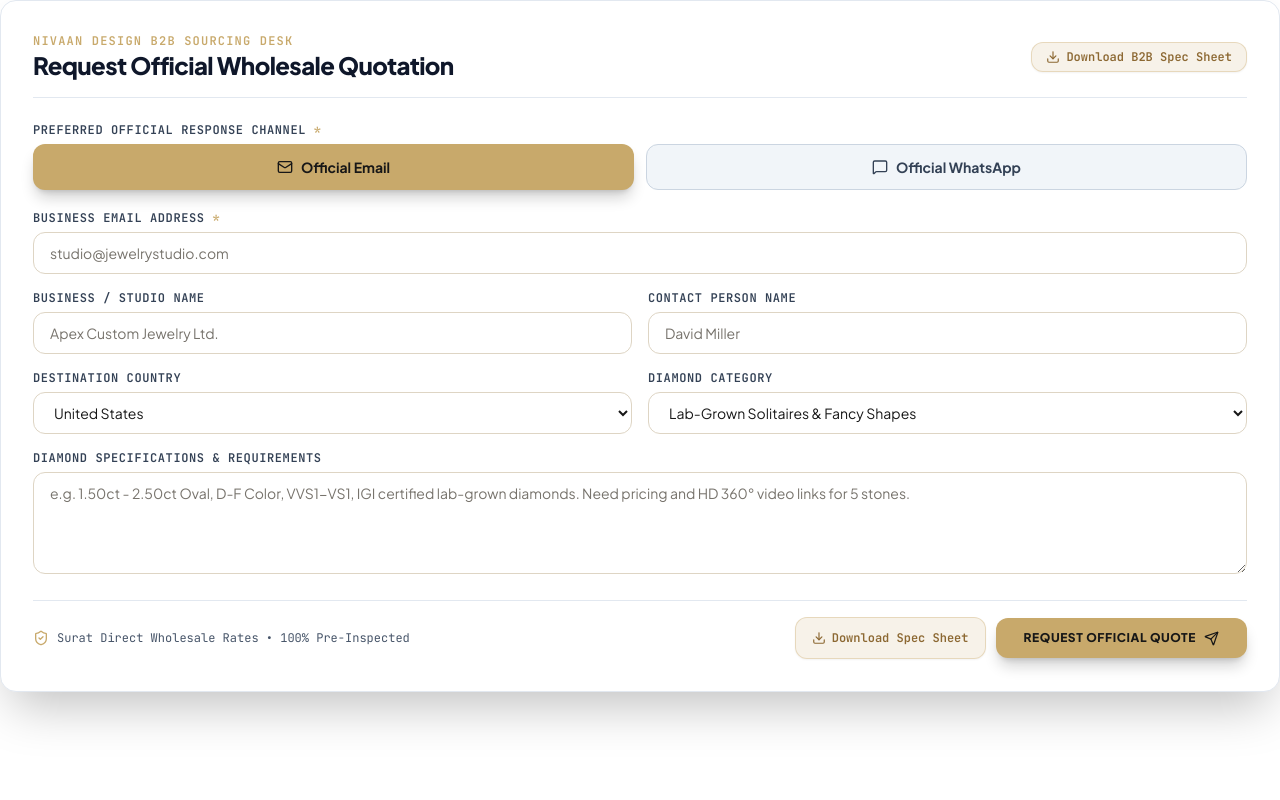
Scenario: B2B Quote Form Component › should validate invalid WhatsApp number when WhatsApp channel is selected
Click the button "Official WhatsApp" at (946, 167), box [646,144,1247,190]
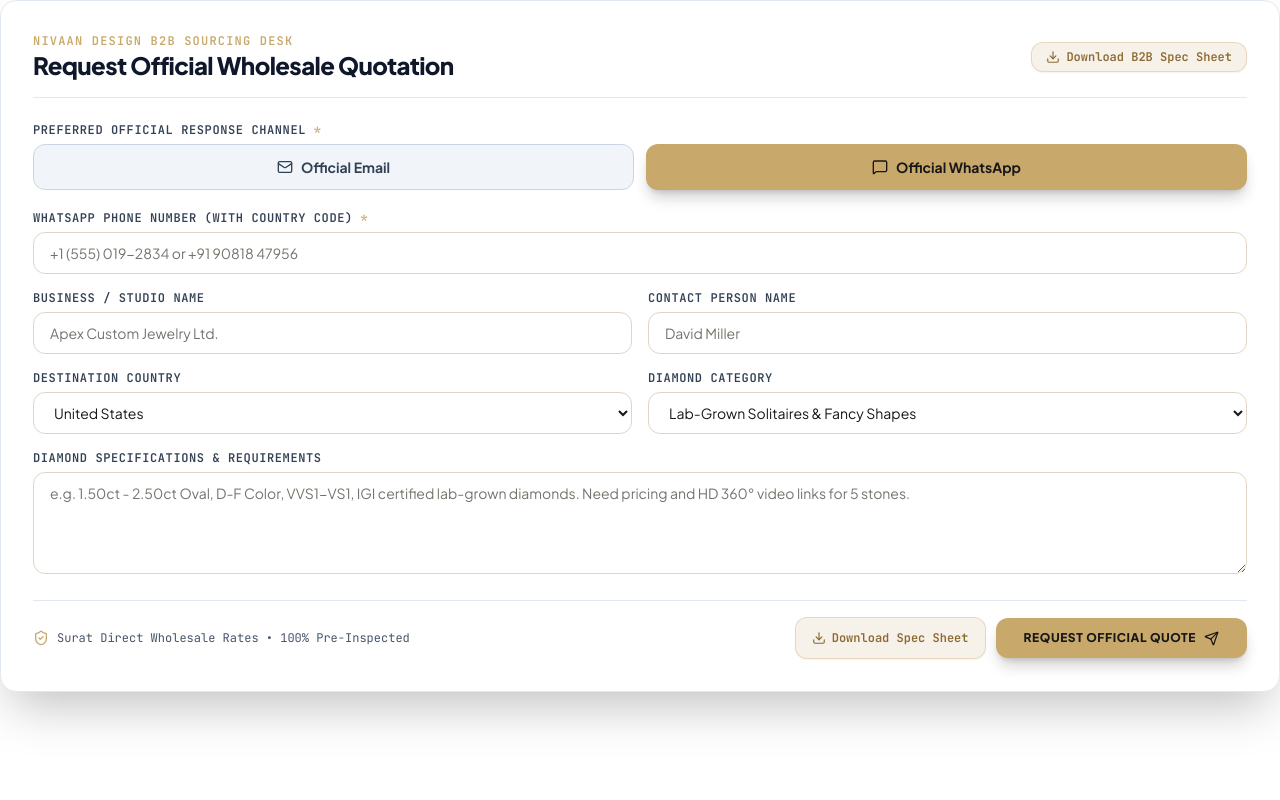
Type "12" into the field labelled "WhatsApp Phone Number (with Country Code) *" at (640, 253), box [33,232,1247,274]
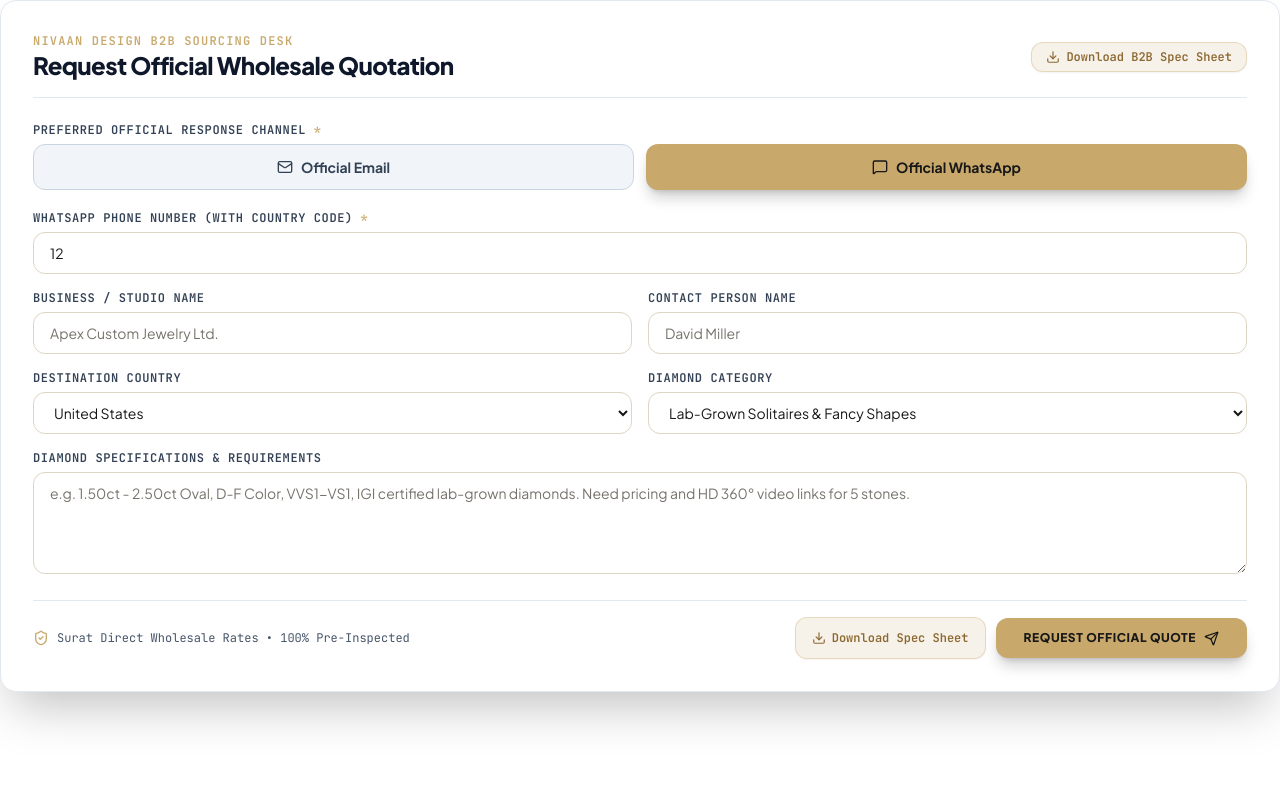
Submit the form named "WhatsApp Phone Number"
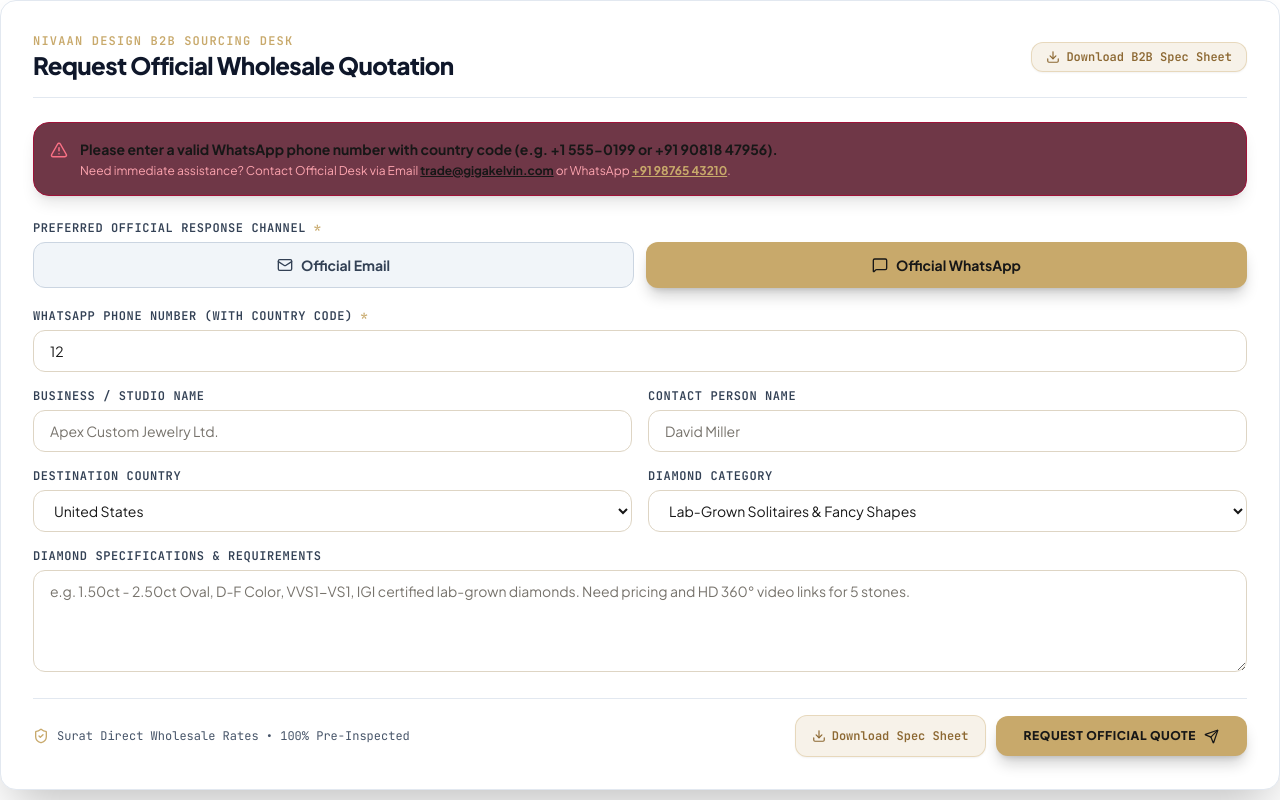
Check: the text "Please enter a valid WhatsApp phone number" is shown, box [80,140,778,158]
